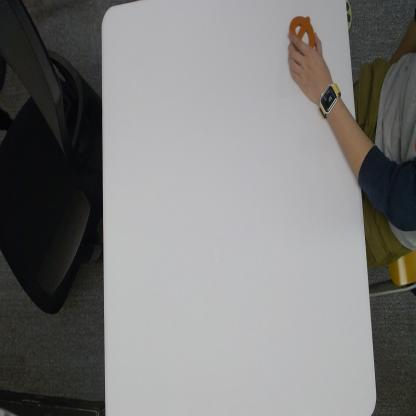Hand: (284, 26, 337, 93)
Pretzel: (288, 14, 318, 49)
